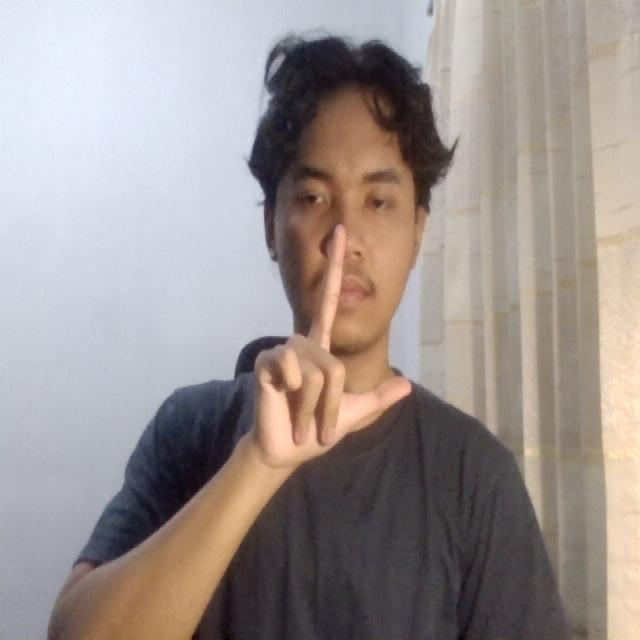I: (220, 220, 432, 489)
